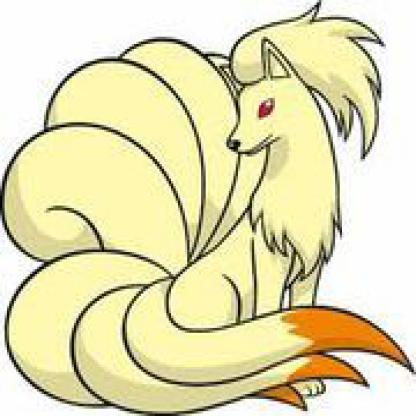Ninetales: (1, 4, 415, 415)
